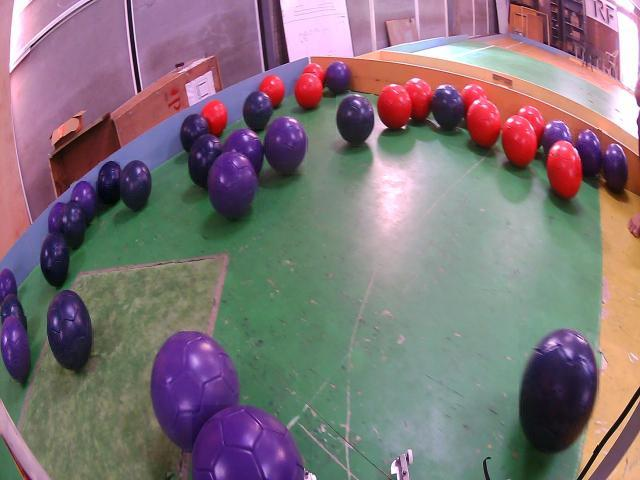jambhalya: (150, 331, 240, 451), (193, 405, 312, 480), (208, 152, 257, 219), (265, 117, 307, 174), (0, 316, 31, 381), (224, 130, 264, 175), (602, 144, 628, 193), (575, 130, 602, 177), (71, 182, 97, 224), (542, 120, 572, 155), (325, 61, 351, 94), (0, 269, 17, 302), (49, 202, 64, 233)
kaalyya: (520, 329, 598, 453), (47, 290, 93, 370), (336, 95, 374, 146), (188, 134, 223, 188), (40, 233, 70, 287), (120, 160, 151, 210), (431, 85, 465, 130), (60, 202, 86, 248), (180, 113, 210, 152), (243, 91, 272, 131), (1, 293, 27, 332), (98, 162, 122, 204)
